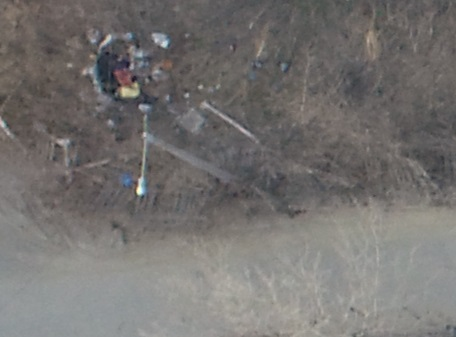opora: (138, 112, 246, 196)
